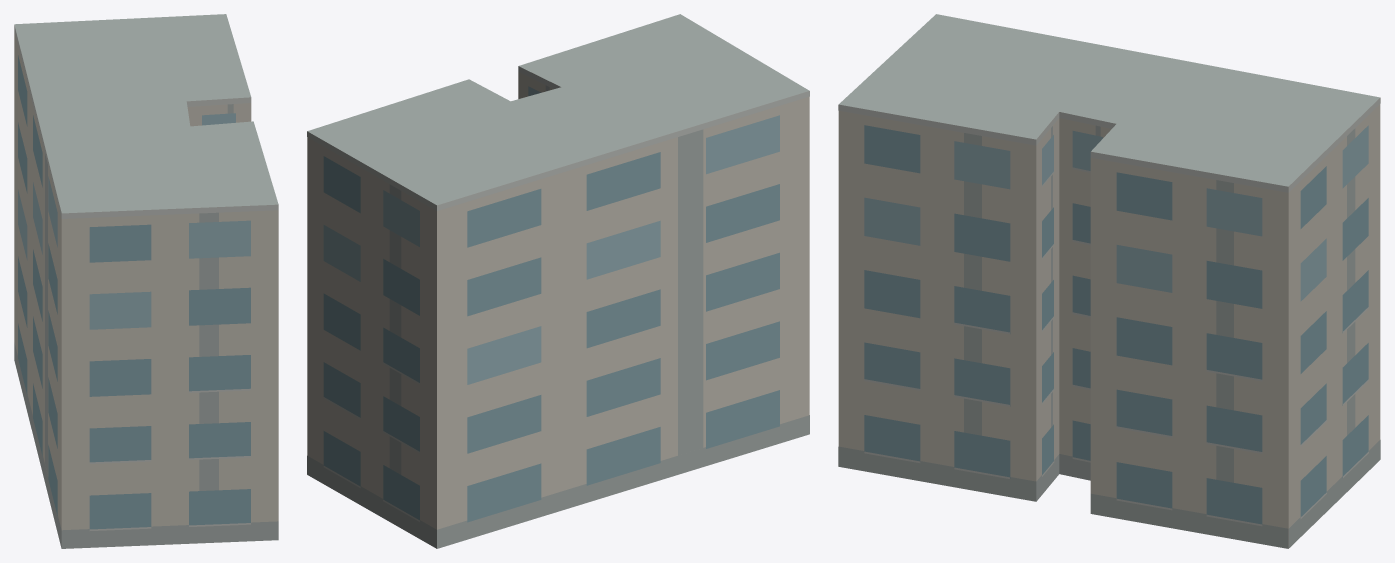
Rendered from survey-upis-32537566.glb.
3 renders of one model, left to right at view 1: azimuth 30°, elevation 25°; view 2: azimuth 150°, elevation 25°; view 3: azimuth 270°, elevation 25°, orthographic. The views are drawn at different scales.
Visible parts, largest first — view 1: survey-upis-32537566.tmp; view 2: survey-upis-32537566.tmp; view 3: survey-upis-32537566.tmp.
Boxes of the visible parts, left/top/right/bottom form: survey-upis-32537566.tmp: left=14, top=14, right=278, bottom=548; survey-upis-32537566.tmp: left=307, top=14, right=809, bottom=548; survey-upis-32537566.tmp: left=838, top=14, right=1380, bottom=548.
Size of the model in its own units: 14.83 by 14.5 by 19.67.
